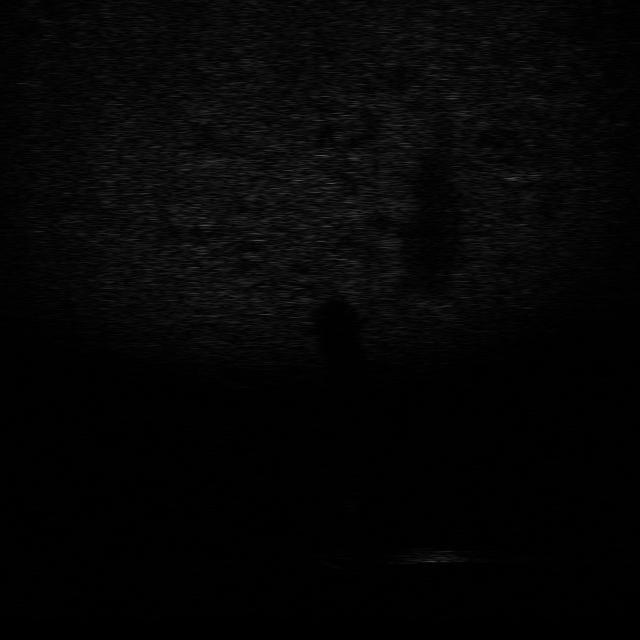ball: (330, 472, 370, 497)
metal bucket: (387, 543, 488, 568)
tyre: (312, 541, 356, 573)
